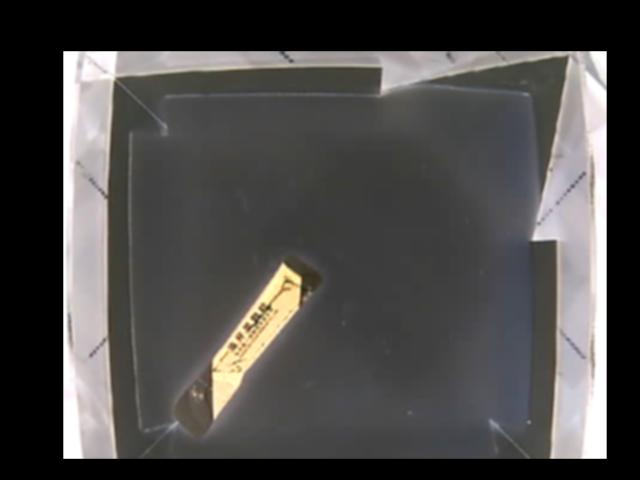Medicine: (172, 255, 321, 440)
